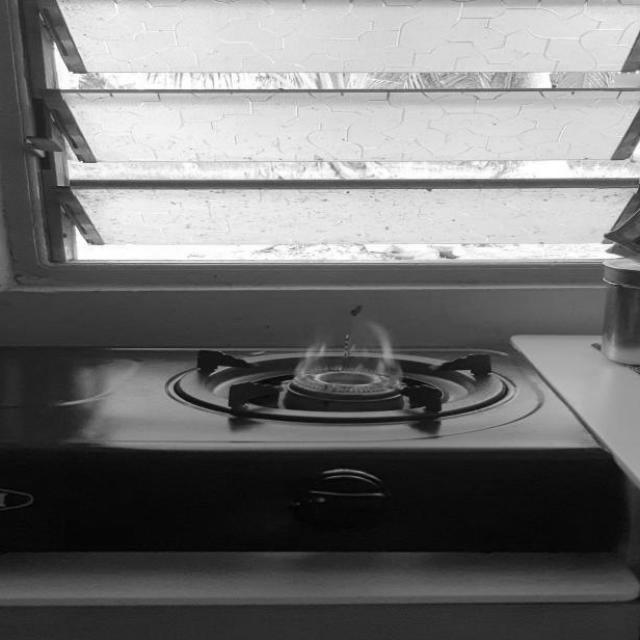smoke: (289, 314, 416, 399)
